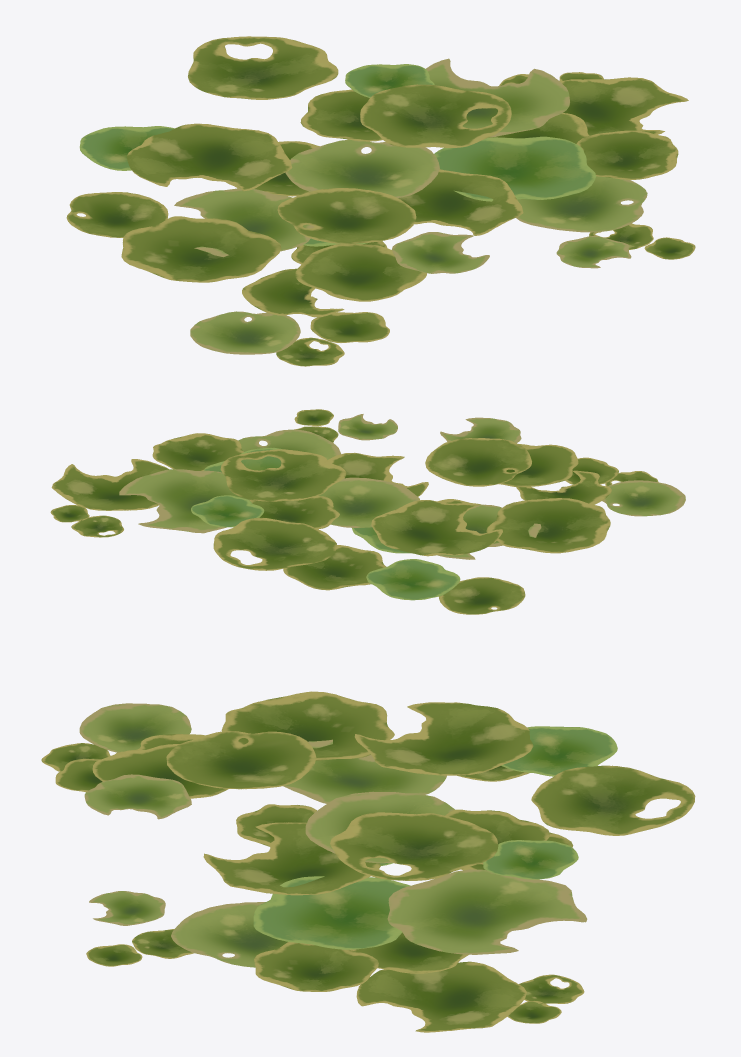
The model's file is plant1_1_low.fbx.
3 views of the same model, one above another, from view 1: azimuth 30°, elevation 25°; view 2: azimuth 150°, elevation 25°; view 3: azimuth 270°, elevation 25° (orthographic). The views are drawn at different scales.
Parts seen in each view (by area): view 1: big_plant01_jh; view 2: big_plant01_jh; view 3: big_plant01_jh.
Boxes of the visible parts, x1,y1,x2,y2 form: big_plant01_jh: [66, 36, 695, 366]; big_plant01_jh: [50, 409, 685, 614]; big_plant01_jh: [41, 691, 695, 1032].
Size of the model in its own units: 156 by 14.81 by 130.
